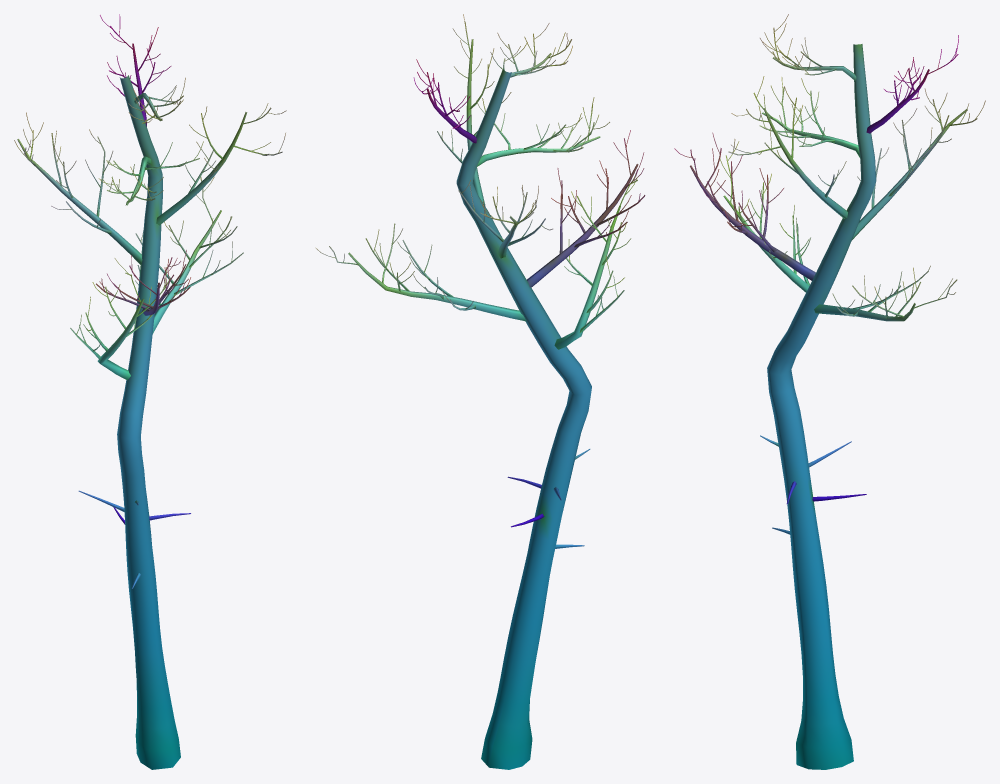
Rendered from pine-grove-b.glb.
The picture shows the model from 3 angles, left to right: view 1: azimuth 30°, elevation 25°; view 2: azimuth 150°, elevation 25°; view 3: azimuth 270°, elevation 25°; orthographic projection. The views are drawn at different scales.
Visible parts, largest first — view 1: bark; view 2: bark; view 3: bark.
Part boxes in pixels (<box>): bark: <box>14,14,286,769</box>; bark: <box>315,14,645,769</box>; bark: <box>674,14,985,769</box>.
Size of the model in its own units: 5.61 by 17.01 by 6.55.
